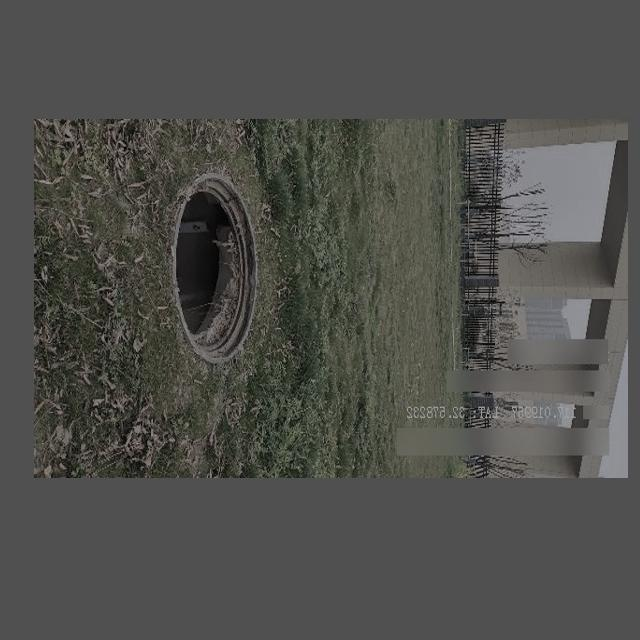lose: (173, 174, 259, 365)
